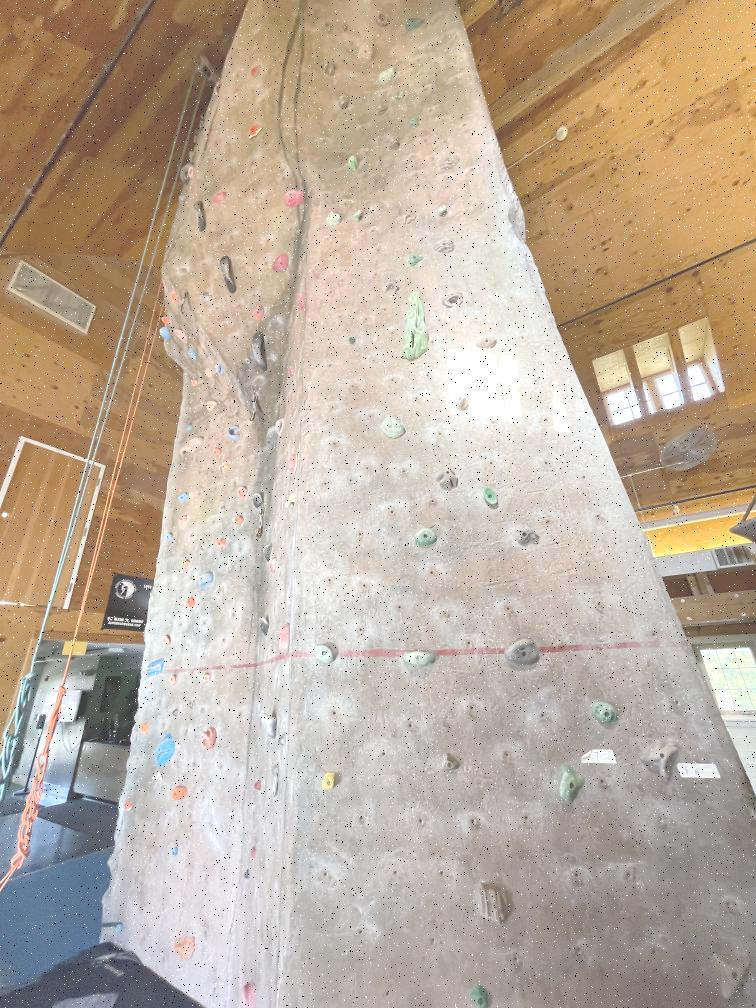Crimp: (470, 877, 520, 929), (377, 412, 409, 444), (169, 935, 198, 961), (512, 521, 539, 547), (472, 332, 500, 350), (432, 237, 458, 255), (436, 154, 462, 171), (405, 252, 427, 269), (216, 458, 234, 476), (120, 796, 138, 813), (247, 124, 264, 141), (246, 64, 262, 78), (176, 490, 190, 505), (199, 672, 215, 685), (204, 400, 218, 414), (179, 558, 192, 570), (394, 89, 406, 102), (407, 117, 419, 129), (190, 380, 198, 387)
Edges: (401, 286, 430, 367), (151, 732, 178, 770), (145, 658, 166, 678)
Foothold: (465, 981, 497, 1008), (239, 979, 260, 1008), (435, 753, 464, 772), (320, 770, 342, 794), (251, 778, 265, 792), (247, 845, 260, 859), (113, 923, 126, 934), (346, 336, 359, 346), (170, 845, 181, 856), (243, 868, 251, 881), (219, 504, 228, 512), (185, 423, 193, 430)
Jug: (554, 759, 587, 805), (498, 634, 541, 669), (248, 329, 270, 375), (216, 252, 239, 295), (590, 700, 620, 726), (190, 199, 209, 236), (178, 434, 206, 458), (411, 525, 438, 549), (259, 710, 279, 741), (438, 288, 466, 308), (313, 642, 336, 666), (269, 252, 292, 274), (450, 390, 471, 414), (356, 42, 375, 65), (264, 425, 278, 451), (224, 422, 242, 441), (325, 209, 343, 228), (345, 153, 361, 173), (256, 616, 271, 637), (336, 93, 354, 110), (281, 491, 297, 510), (268, 557, 283, 577), (172, 327, 189, 344), (294, 290, 307, 312), (260, 543, 275, 562), (249, 491, 264, 510), (352, 208, 368, 225), (202, 399, 219, 414), (234, 485, 249, 500), (374, 103, 390, 117), (231, 514, 246, 527), (210, 446, 224, 459), (160, 633, 172, 648), (164, 530, 175, 544), (167, 675, 180, 685), (161, 315, 172, 326), (286, 366, 296, 378)
Pinch: (639, 732, 679, 784), (431, 466, 462, 495), (400, 648, 439, 670), (482, 484, 500, 508), (167, 785, 189, 802), (196, 571, 215, 589), (400, 208, 417, 227), (381, 278, 400, 293), (251, 304, 266, 322), (213, 360, 226, 378), (174, 514, 189, 528), (433, 204, 450, 216), (275, 417, 285, 437), (185, 596, 198, 610), (198, 291, 214, 302), (138, 722, 151, 734), (215, 538, 227, 549)
Pocket: (198, 724, 221, 751), (276, 620, 292, 656), (402, 14, 428, 34), (373, 10, 391, 29), (286, 451, 299, 476), (212, 190, 228, 206), (187, 166, 197, 180)
Sloper: (281, 187, 304, 210), (319, 59, 339, 78), (386, 136, 406, 152), (376, 67, 396, 82), (158, 327, 172, 346), (186, 348, 199, 361), (202, 366, 213, 380), (169, 288, 178, 304)
